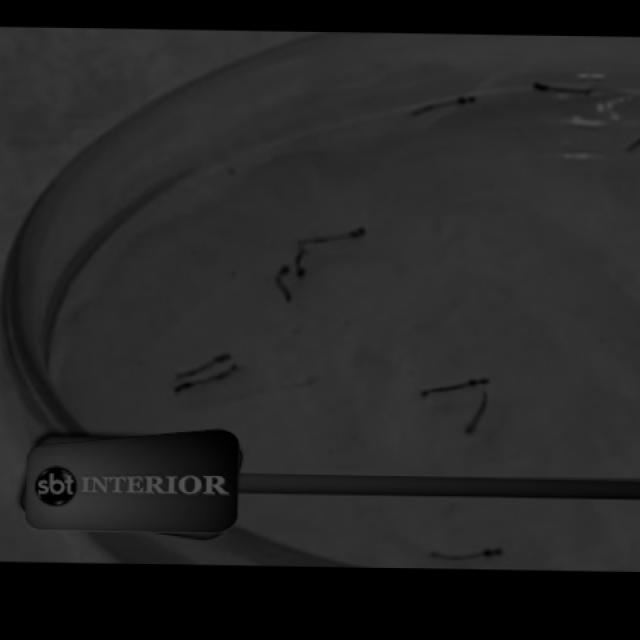larvas: (170, 342, 239, 388), (175, 353, 242, 395), (420, 374, 486, 398), (462, 390, 497, 433), (414, 94, 476, 118), (430, 548, 506, 565), (298, 227, 368, 245), (530, 83, 596, 95), (276, 265, 292, 305), (292, 248, 310, 278)
